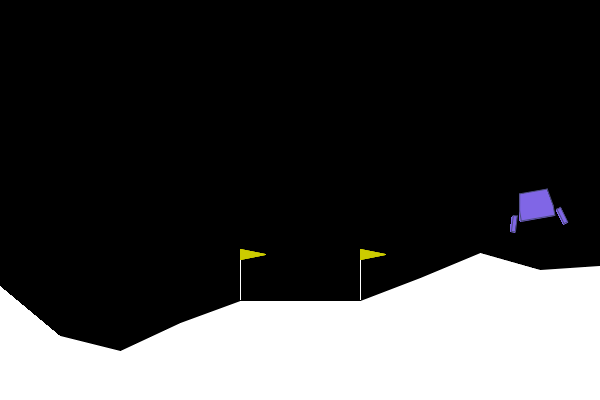lander: (503, 185, 569, 234)
